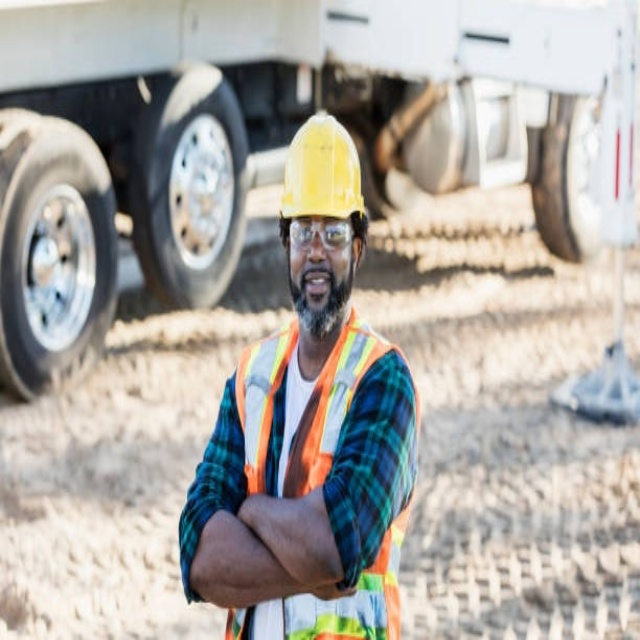Gafas: (287, 216, 357, 252)
Sin_mascara: (304, 274, 330, 300)
